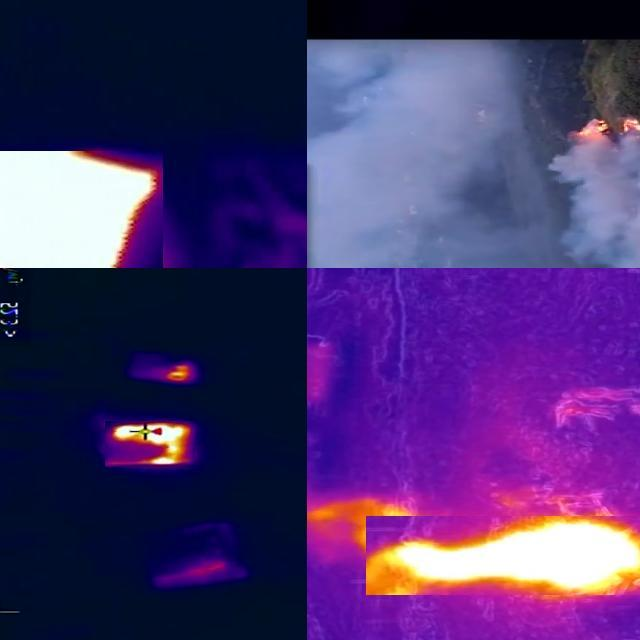fire: (367, 516, 640, 595), (1, 151, 164, 269), (106, 421, 196, 467), (162, 361, 200, 385)
